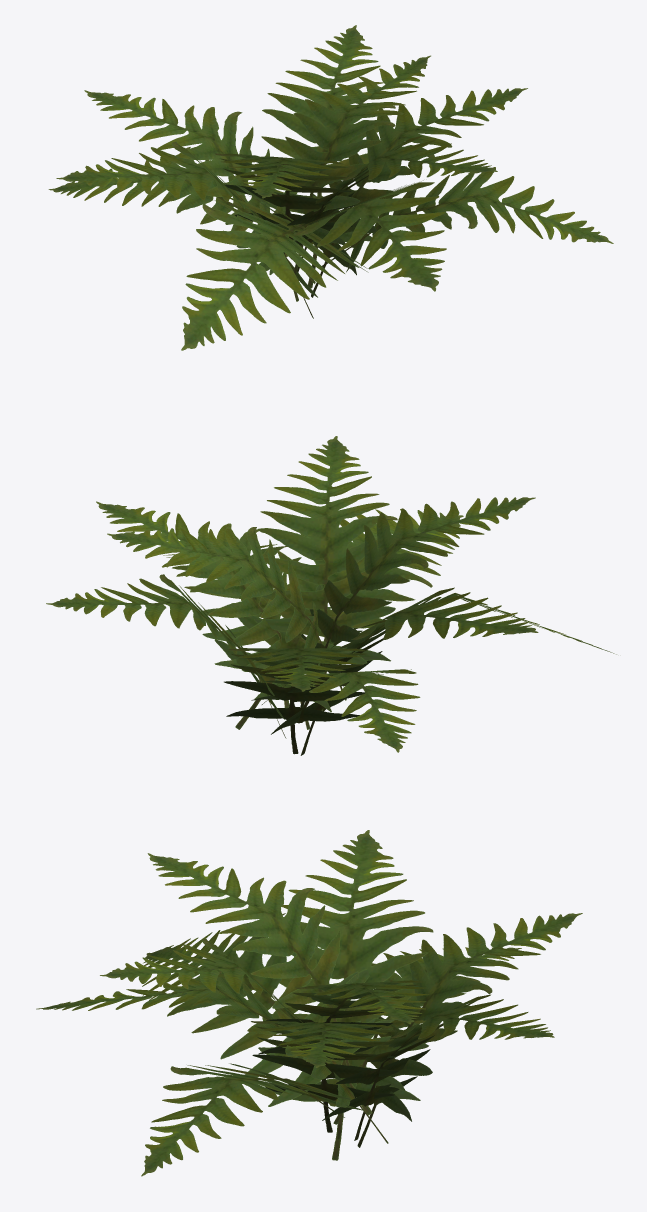
File: SC_SLtree03.FBX
The picture shows the model from 3 angles, top to bottom: view 1: azimuth 30°, elevation 25°; view 2: azimuth 150°, elevation 25°; view 3: azimuth 270°, elevation 25°; orthographic projection. The views are drawn at different scales.
Visible parts, largest first — view 1: SC_SLtree03; view 2: SC_SLtree03; view 3: SC_SLtree03.
Boxes of the visible parts, x1,y1,x2,y2 form: SC_SLtree03: (48, 25, 613, 350); SC_SLtree03: (46, 436, 616, 755); SC_SLtree03: (36, 830, 582, 1176).
Size of the model in its own units: 3.16 by 1.3 by 3.01.
